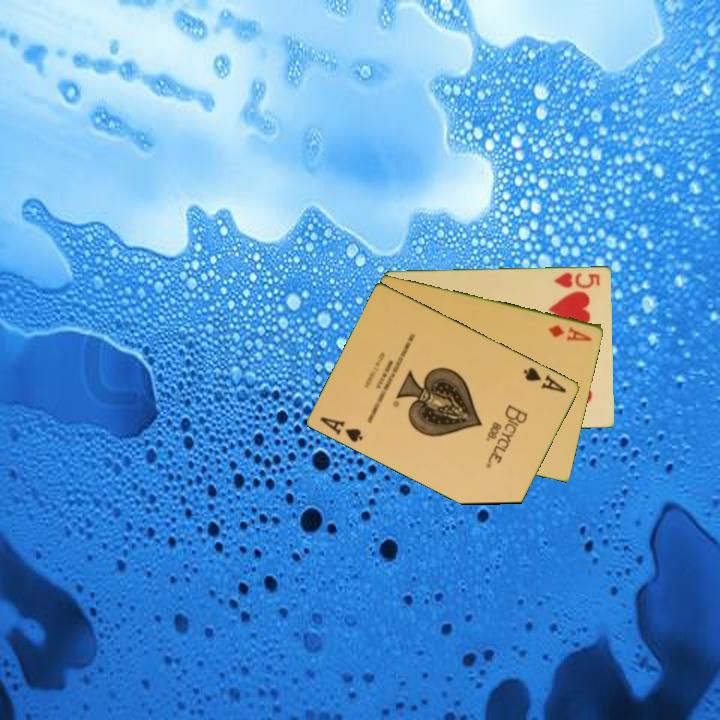5h: (551, 269, 603, 291)
Ad: (545, 321, 595, 344)
As: (316, 413, 366, 445), (520, 364, 569, 396)
